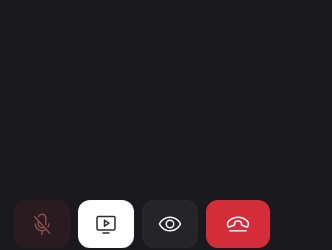
Test case: a barra flutuante › o menu de quem está no ar › clicar fora fecha o menu
(page scrolled)
Click the button named "Sua tela está no ar — opções".
click(106, 224)  # box x1=78 y1=200 x2=134 y2=248
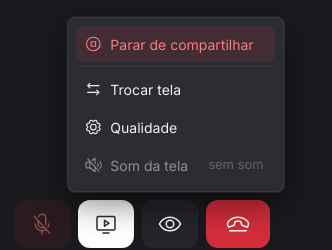
Click the button named "Sair da sala".
click(238, 224)  # box x1=206 y1=200 x2=270 y2=248
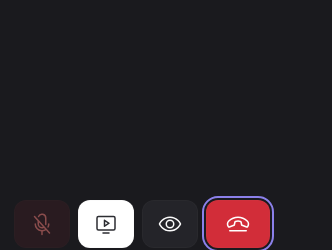
Now the menu is gone
